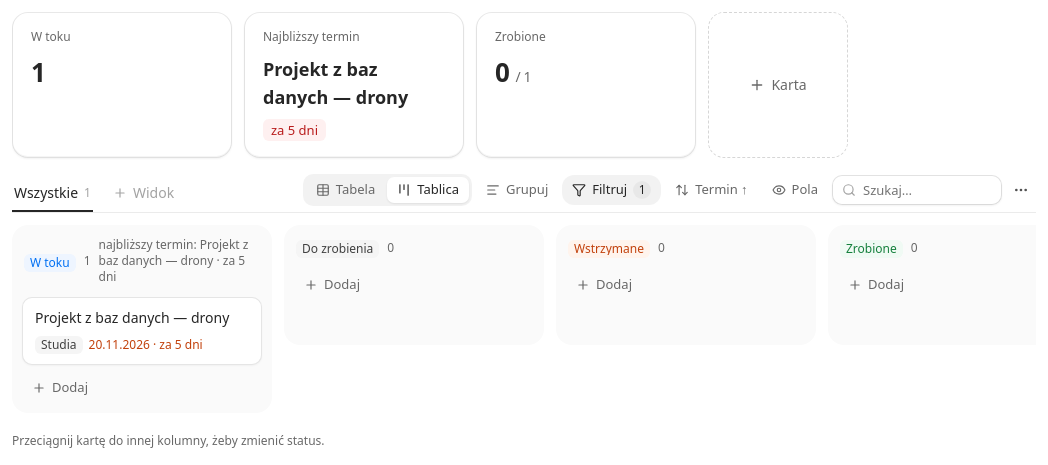
Tablica (kanban) › nowa karta jest przypięta: nie znika przez filtr widoku, dopóki nazwa się nie zapisze
Click the button "Dodaj" below "Wstrzymane" at (686, 285), box [566,270,806,300]
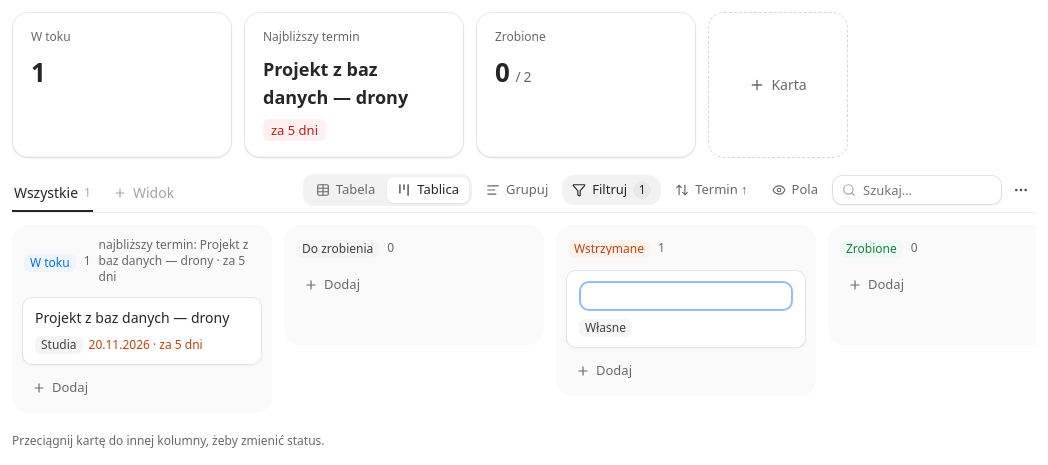
Expected: the field named "Nazwa" is shown, [579,281,793,311]
